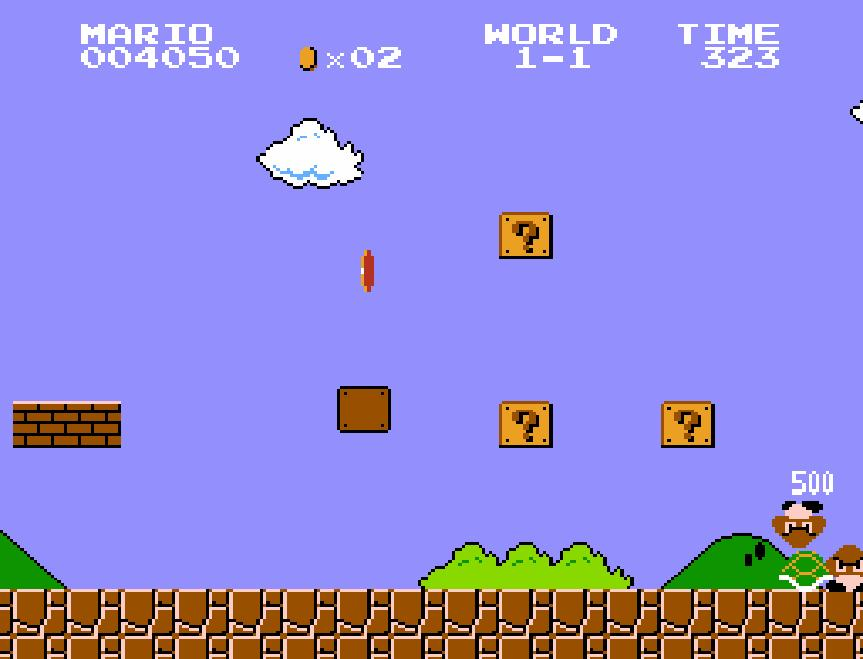little_mario: (379, 502, 437, 552)
